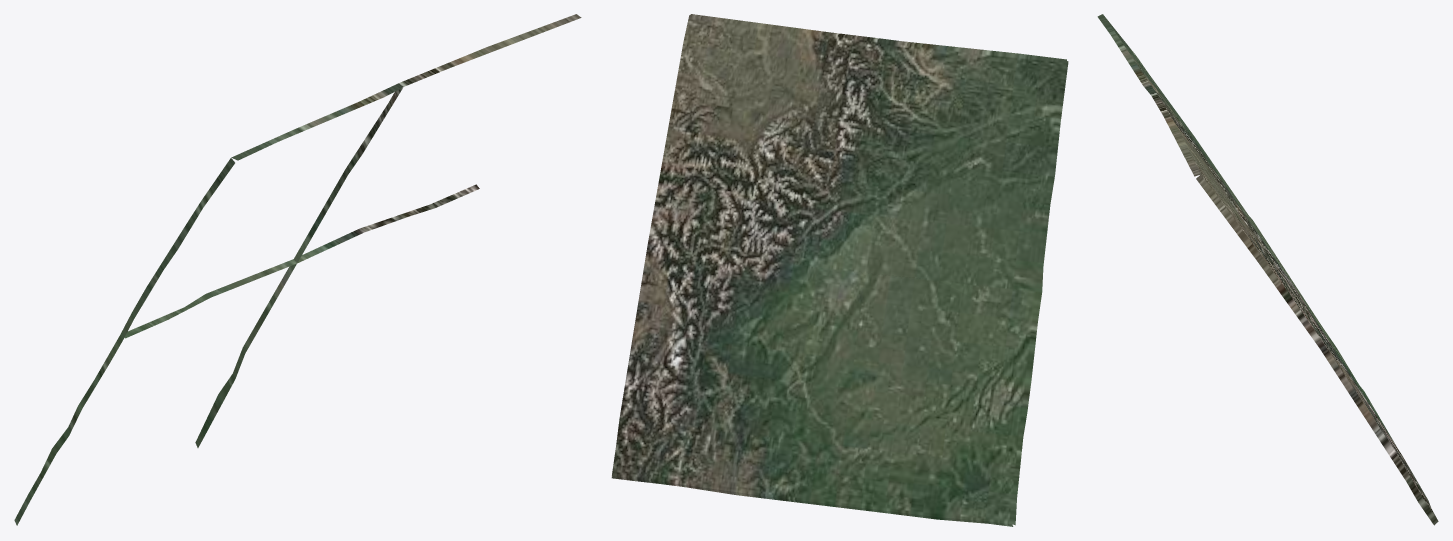
3 views of the same model, side by side, from view 1: azimuth 30°, elevation 25°; view 2: azimuth 150°, elevation 25°; view 3: azimuth 270°, elevation 25° (orthographic). The views are drawn at different scales.
Bounding box in the file's own units: 605512 × 545317 × 452207.
1 material, 1 textured.
